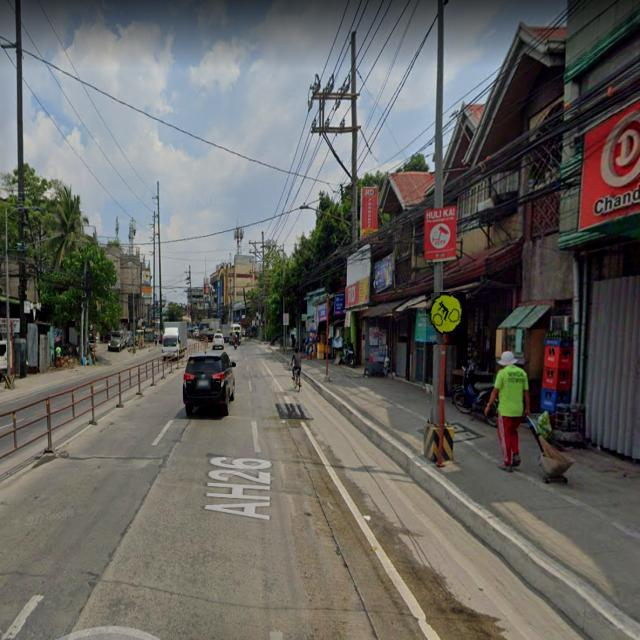bike lane: (427, 292, 467, 345)
